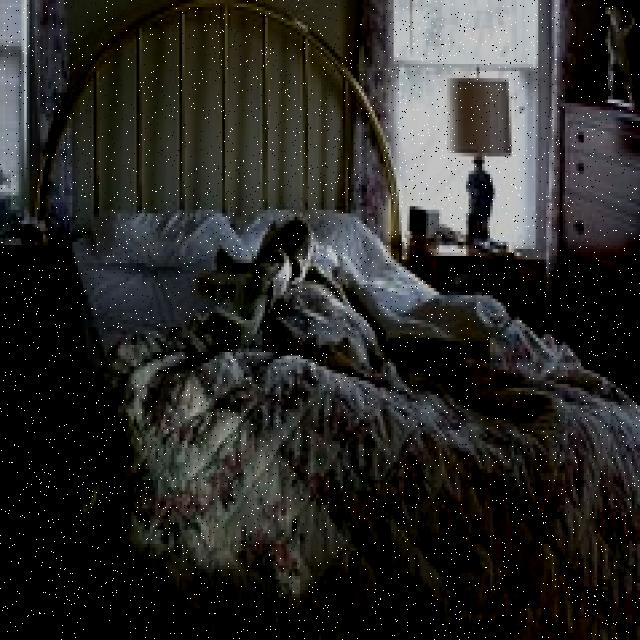bed: (42, 125, 640, 640)
